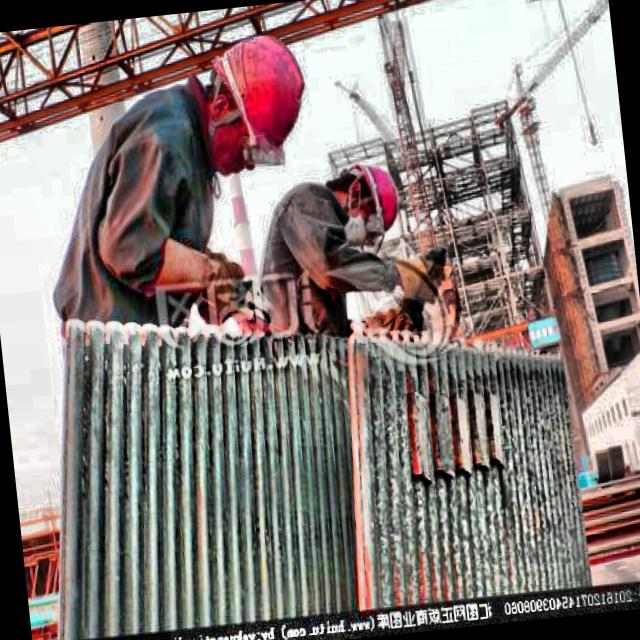helmet: (190, 26, 320, 176), (344, 157, 412, 238)
